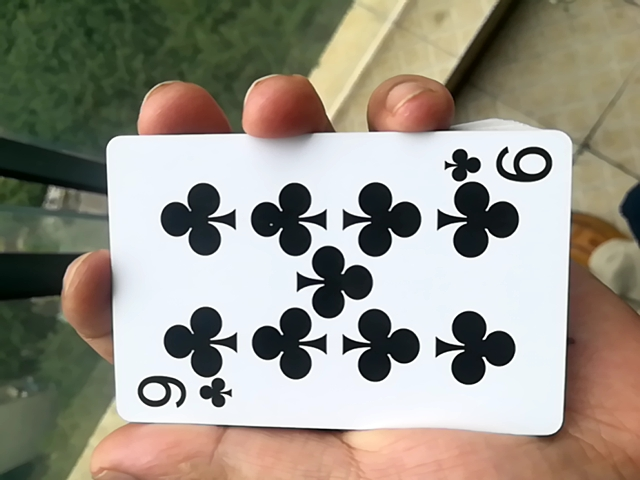mh 9: (100, 128, 568, 442)
